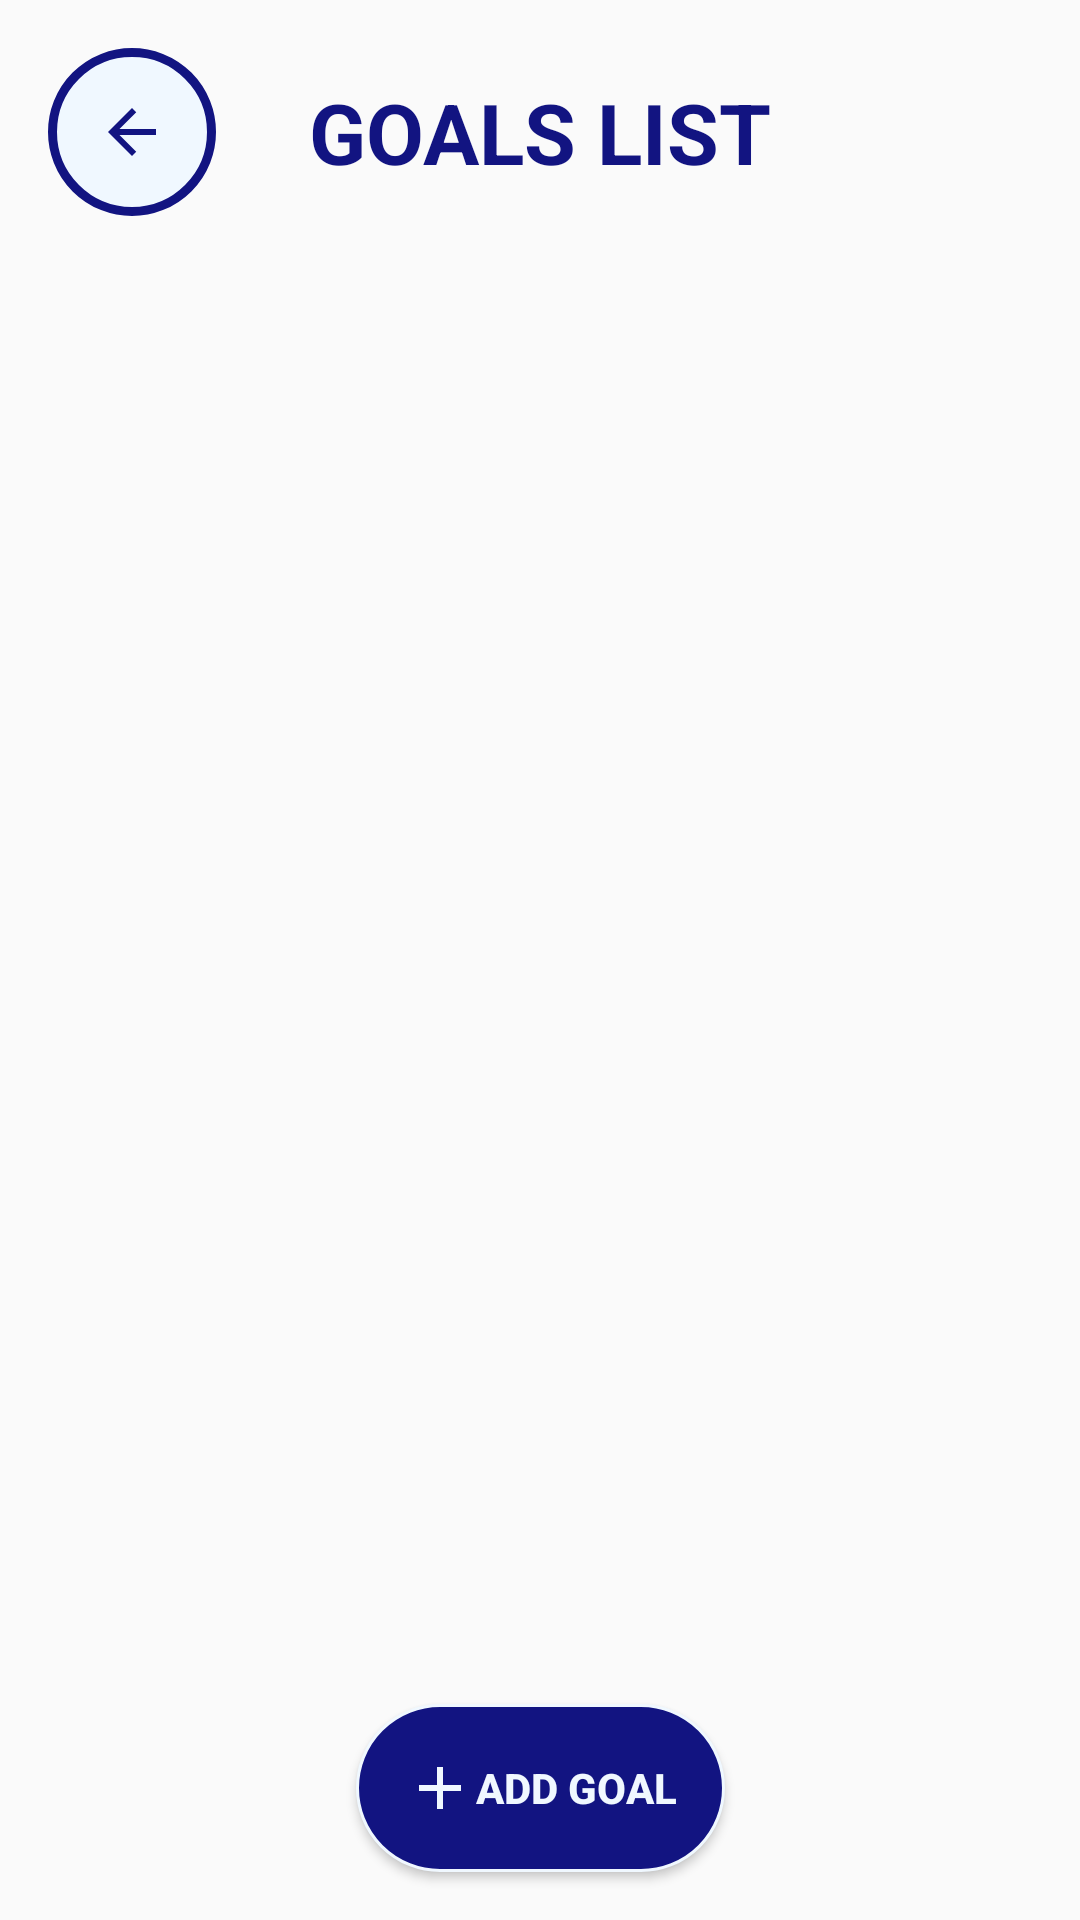

Named icons in this screenshot (1080px×1920px) and their centers, point (x, y):
Back Button: point (132, 132)
